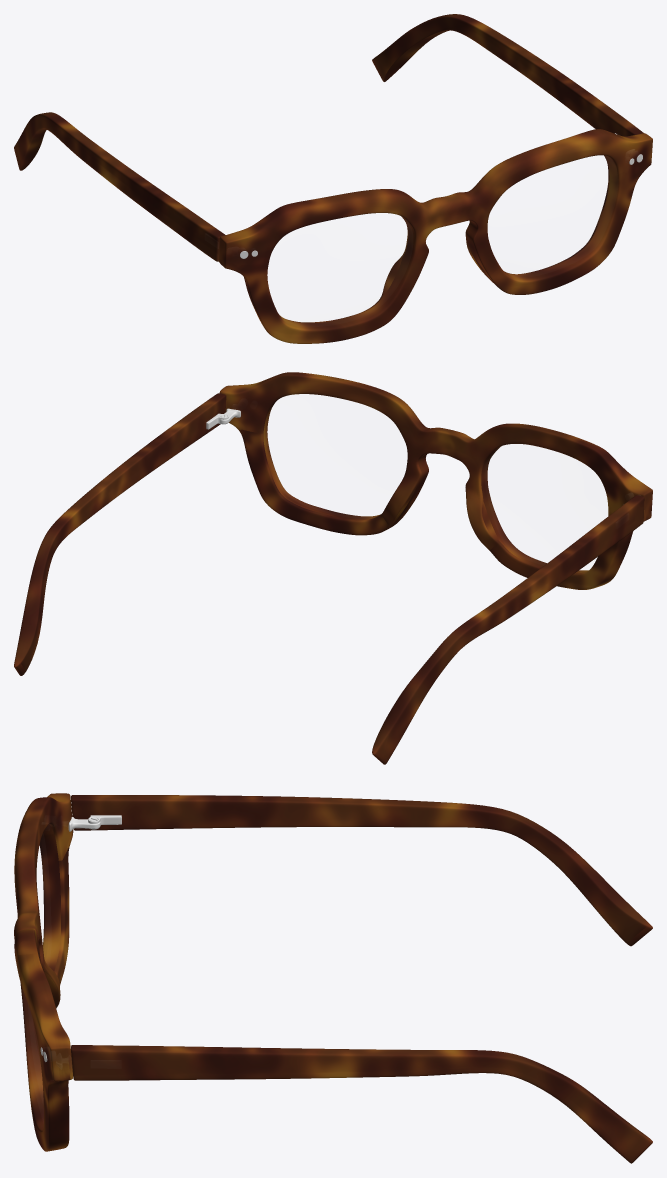
Rendered from carson-opt-sbf-cinnamon-tortoise_wide.glb.
The picture shows the model from 3 angles, top to bottom: view 1: azimuth 30°, elevation 25°; view 2: azimuth 150°, elevation 25°; view 3: azimuth 270°, elevation 25°; orthographic projection. The views are drawn at different scales.
Visible parts, largest first — view 1: face_front, left_temple, right_temple; view 2: face_front, right_temple, left_temple; view 3: left_temple, right_temple, face_front.
Boxes of the visible parts, left/top/right/bottom form: face_front: left=219, top=129, right=652, bottom=343; left_temple: left=372, top=14, right=643, bottom=136; right_temple: left=14, top=112, right=225, bottom=261; face_front: left=219, top=372, right=652, bottom=589; right_temple: left=372, top=495, right=644, bottom=764; left_temple: left=14, top=393, right=226, bottom=675; left_temple: left=71, top=1045, right=652, bottom=1163; right_temple: left=71, top=795, right=652, bottom=946; face_front: left=14, top=793, right=73, bottom=1151.
Size of the model in its own units: 0.1418 by 0.0458 by 0.1482.
Materials: 5 (1 with a texture image).
